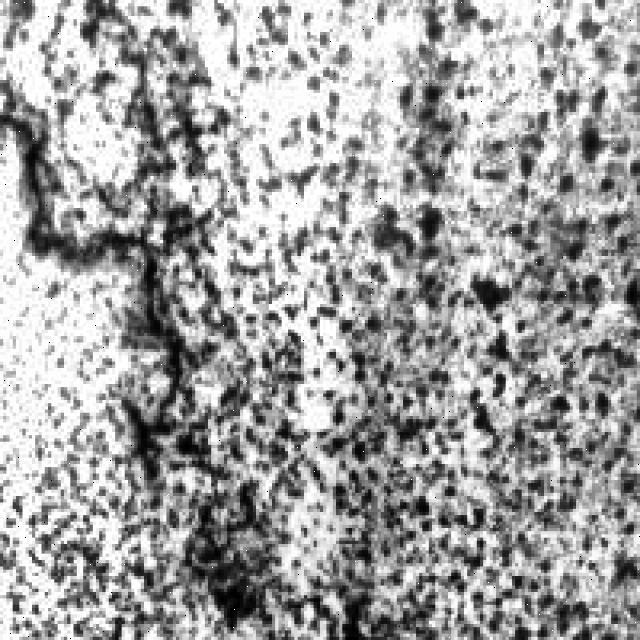Rolled_in_Scale: (45, 0, 628, 624)
